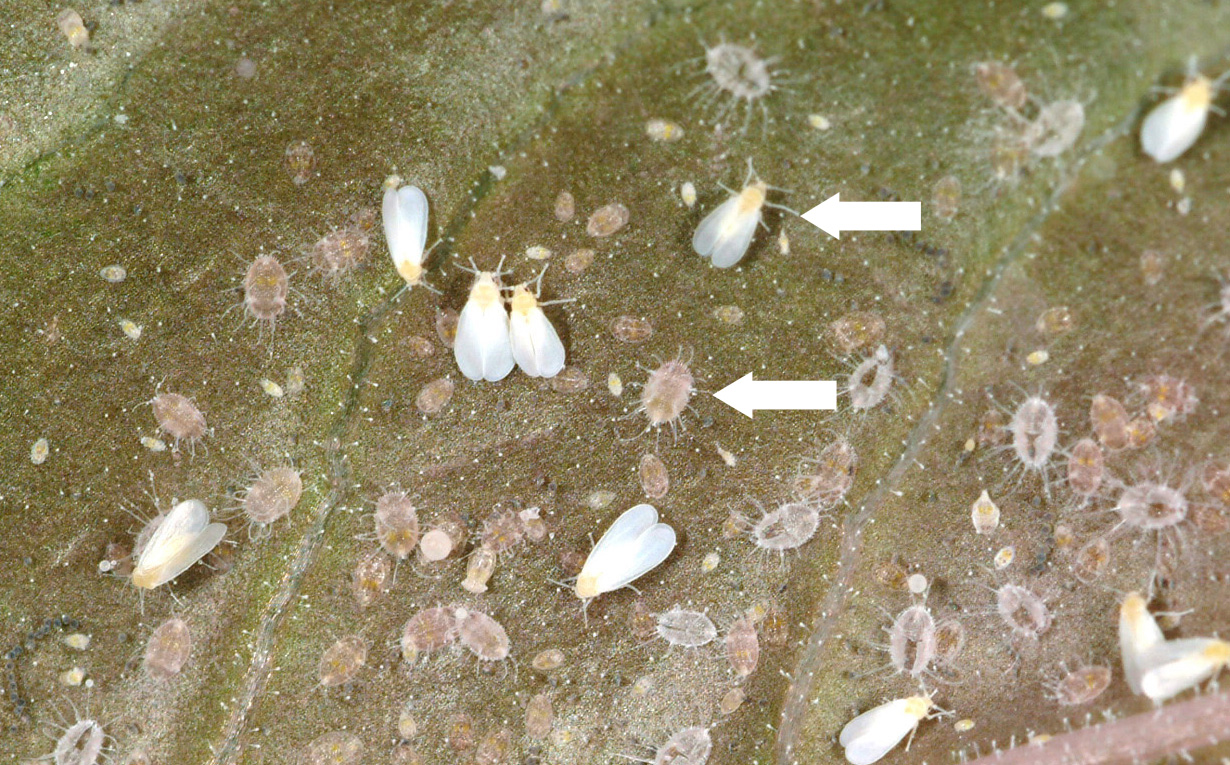Tobacco Whitefly: (86, 465, 243, 607), (463, 240, 582, 420), (529, 496, 679, 628), (364, 146, 449, 309), (837, 649, 940, 765), (710, 180, 775, 294)
